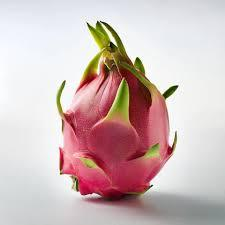dragon fruit: (55, 19, 178, 200)
